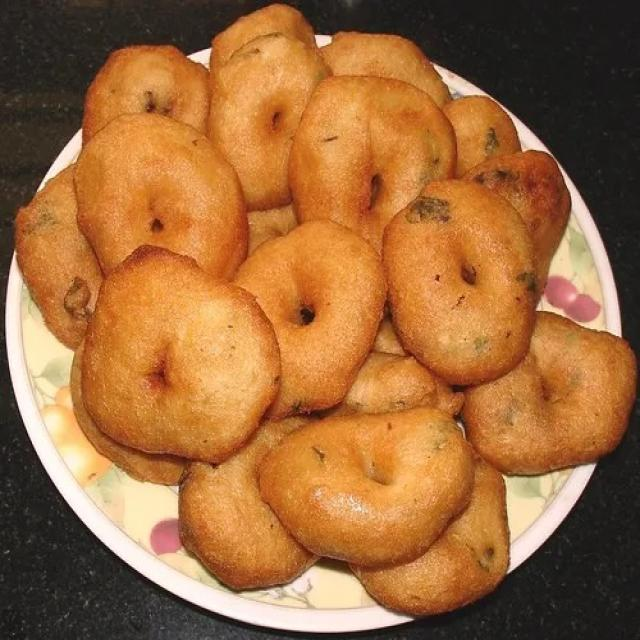medu vadai: (10, 0, 640, 640), (81, 247, 281, 462), (259, 407, 473, 567), (383, 180, 537, 385), (235, 220, 386, 418), (290, 76, 455, 252), (75, 114, 248, 278), (463, 311, 637, 474), (208, 33, 330, 210), (16, 166, 102, 350), (82, 45, 208, 144)
